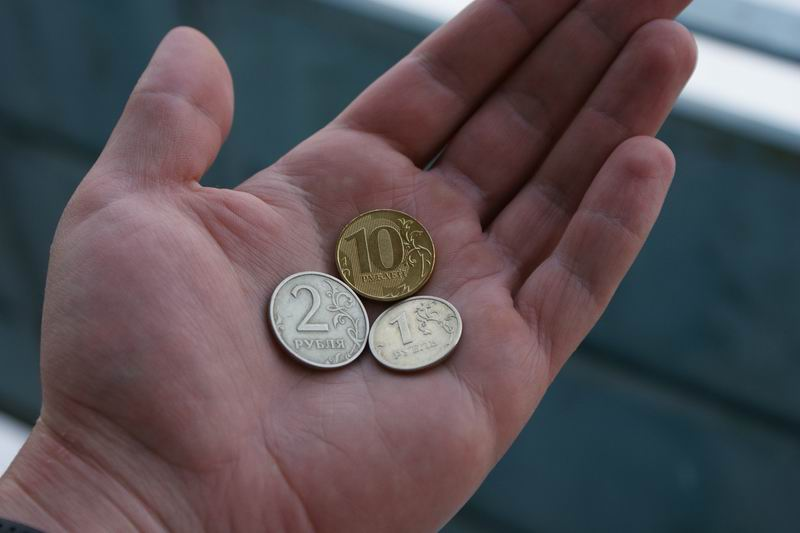coin: (269, 270, 370, 369), (335, 208, 436, 301), (369, 294, 464, 371)
